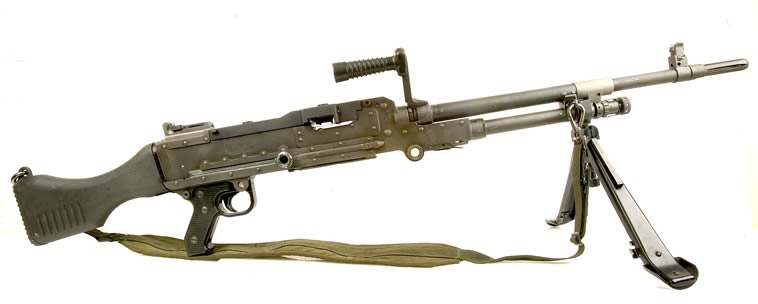rifle: (8, 42, 750, 283)
